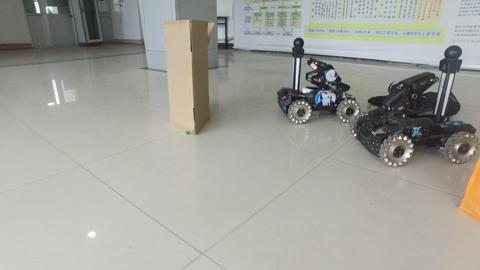box: (162, 19, 216, 136)
chariot: (351, 45, 479, 162), (281, 36, 359, 125)
